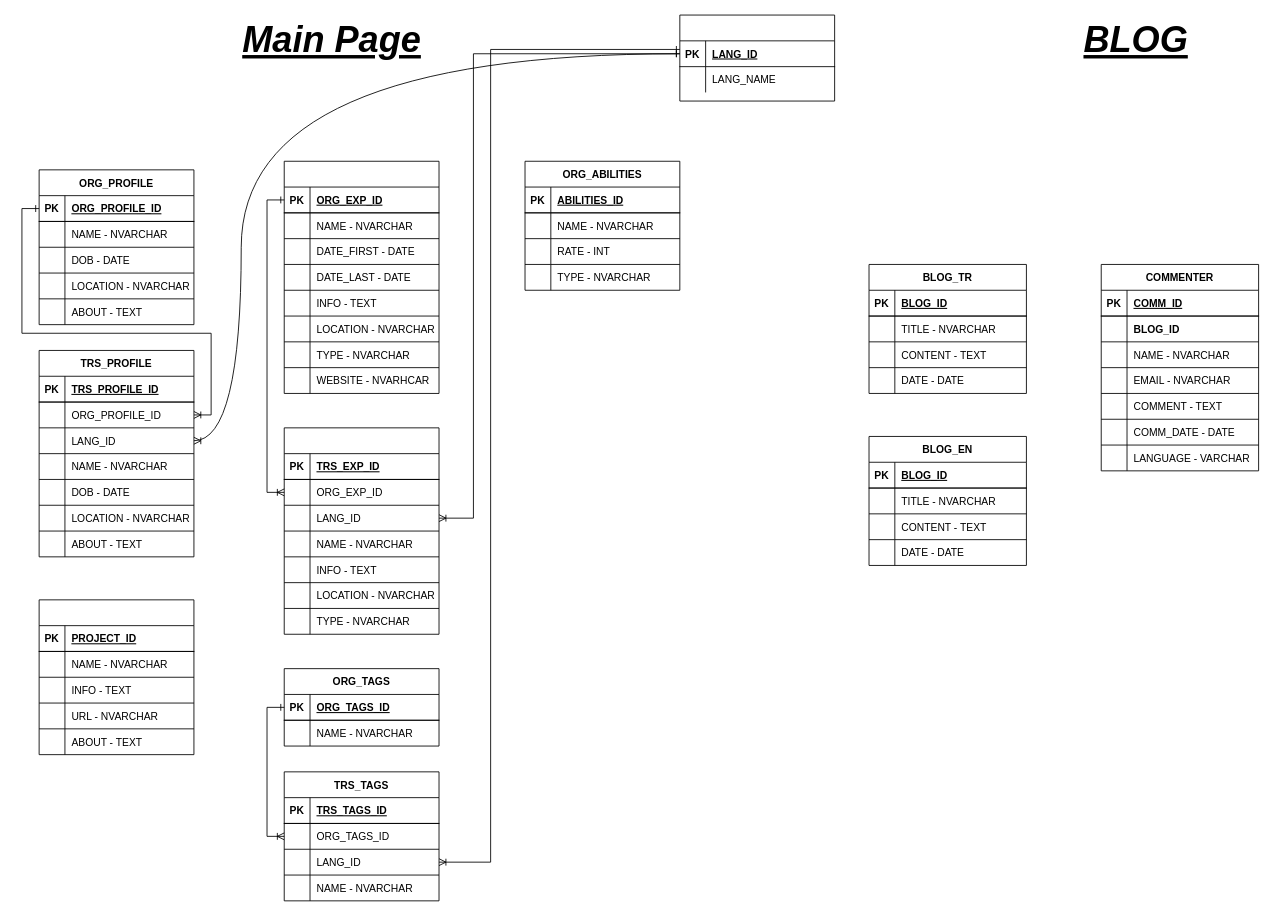
The diagram is 1274 pixels wide and 916 high, and some of its shapes have lost their labels. Each missing label, with the box of its shape:
LANGUAGE: (679, 14, 835, 101)
ORG_EXPREINCES: (283, 160, 439, 393)
ORG_PROJECTS: (38, 599, 194, 755)
TRS_EXPREINCES: (283, 427, 439, 634)
